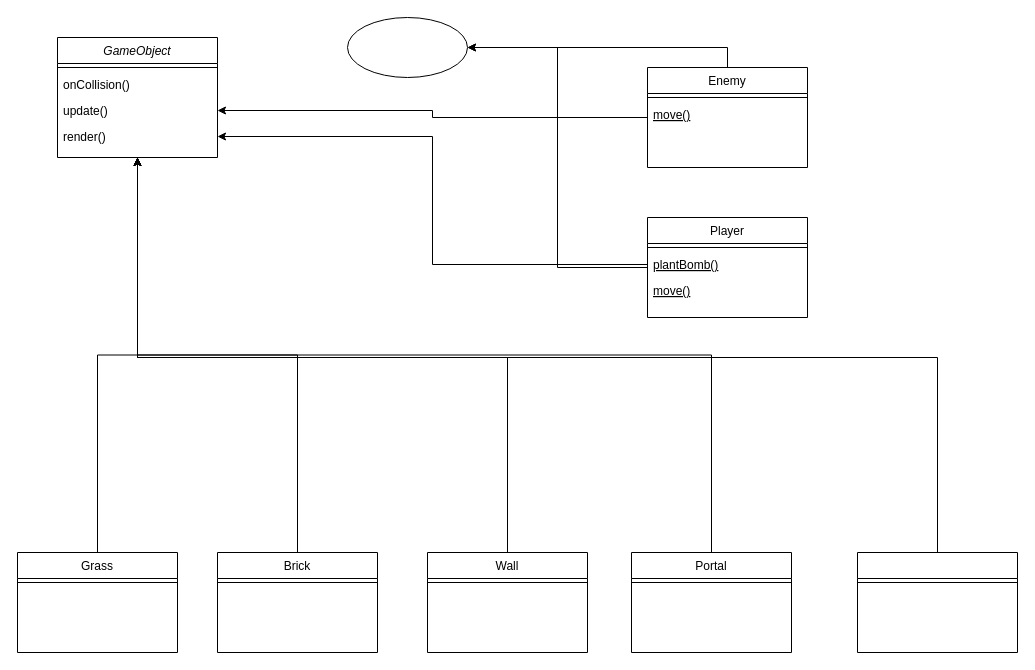
This 1035x670 diagram has some shape labels left out. Each missing label, with the centre of its shape:
Item: the point at 937,602
Moveable: the point at 407,47
